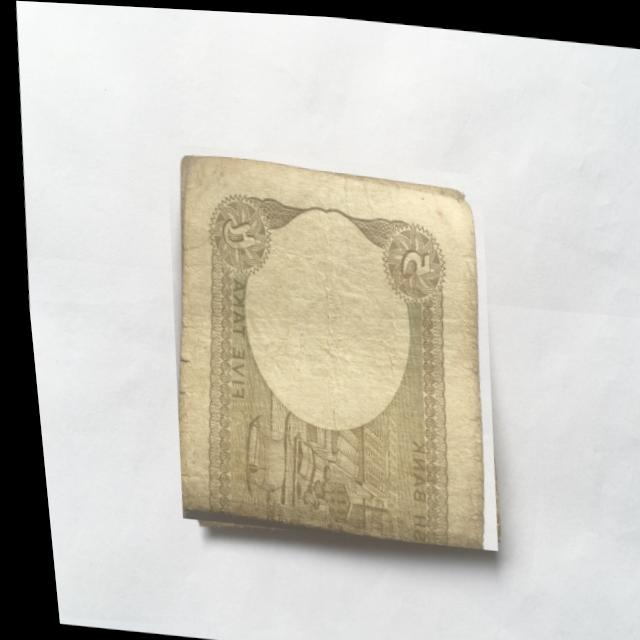Taka: (144, 140, 508, 547)
